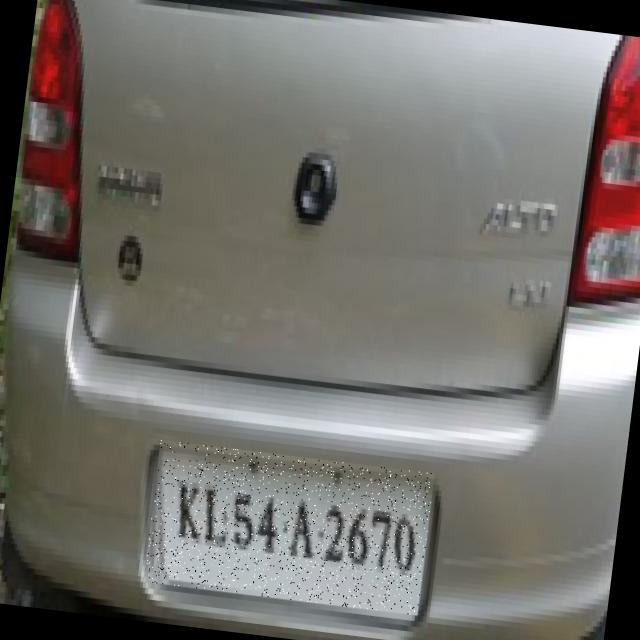Plate: (144, 440, 435, 616)
